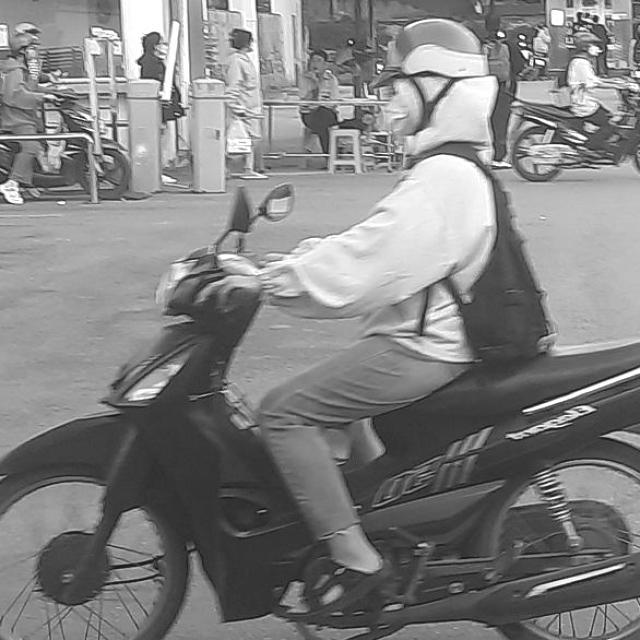Helmet: (379, 14, 486, 146)
